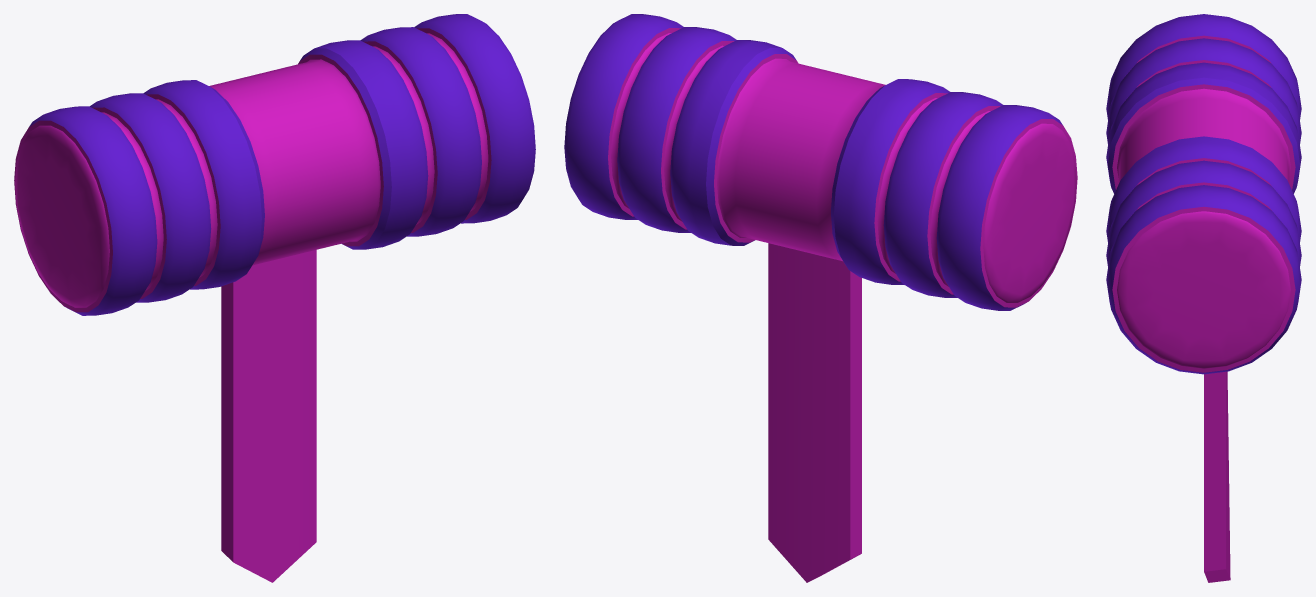
File: m┼éot.fbx
The picture shows the model from 3 angles, left to right: view 1: azimuth 30°, elevation 25°; view 2: azimuth 150°, elevation 25°; view 3: azimuth 270°, elevation 25°; orthographic projection. The views are drawn at different scales.
Parts seen in each view (by area): view 1: młot; view 2: młot; view 3: młot.
Part boxes in pixels (bbox=[...]): młot: bbox=[14, 14, 535, 582]; młot: bbox=[564, 14, 1077, 582]; młot: bbox=[1106, 14, 1301, 582].
Size of the model in its own units: 124 by 142 by 52.61.
